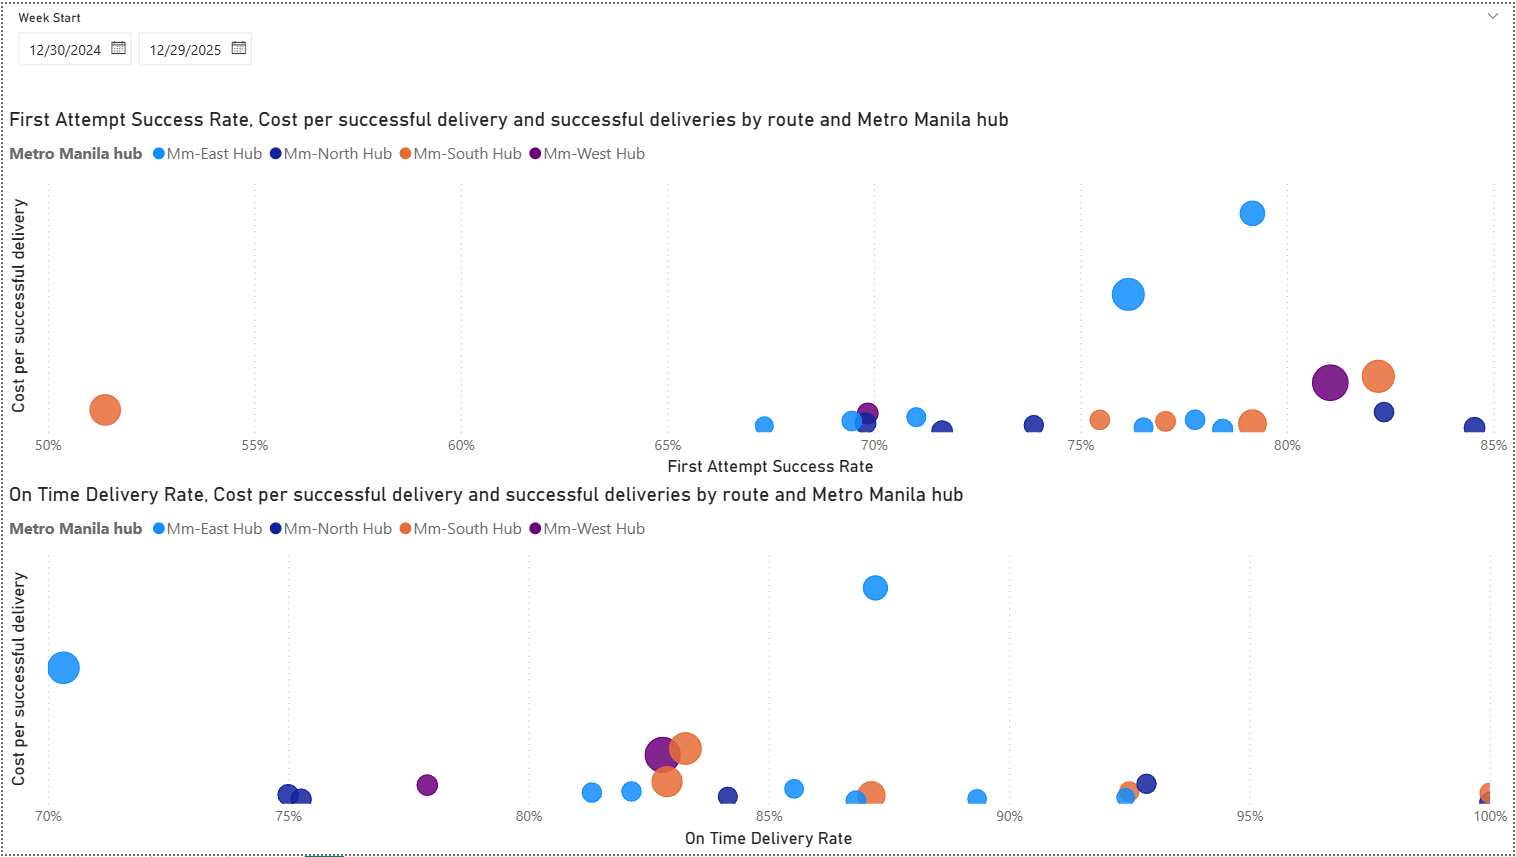

Layout of this report page (visuals, bound fields, positions):
{"tool":"powerbi","page":{"name":"Page 2","canvas":[1280,720],"ordinal":1},"visuals":[{"type":"scatterChart","fields":{"X":["kpi_table_powerbi_filled_plausible_final.KPI_2 First Attempt Success Rate"],"Y":["kpi_table_powerbi_filled_plausible_final.KPI 1 Cost per Successful Delivery (PHP)"],"Size":["Sum(kpi_table_powerbi_filled_plausible_final.successful_deliveries)"],"Series":["kpi_table_powerbi_filled_plausible_final.hub_name"],"Category":["kpi_table_powerbi_filled_plausible_final.route_id"]},"box":[0,87,1280,318],"z":0},{"type":"scatterChart","fields":{"Y":["kpi_table_powerbi_filled_plausible_final.KPI 1 Cost per Successful Delivery (PHP)"],"Size":["Sum(kpi_table_powerbi_filled_plausible_final.successful_deliveries)"],"Series":["kpi_table_powerbi_filled_plausible_final.hub_name"],"X":["kpi_table_powerbi_filled_plausible_final.KPI_3 On-Time Delivery Rate"],"Category":["kpi_table_powerbi_filled_plausible_final.route_id"]},"box":[0,405,1280,315],"z":1000},{"type":"slicer","fields":{"Values":["kpi_table_powerbi_filled_plausible_final.Week Start"]},"box":[0,0,1280,87],"z":2000}]}

Visuals, with their boxes in screenshot pixels (x1, y1, x2, y2), scaled from the page's 1280x720 canvas onto the 1516x857 screenshot:
scatterChart - kpi_table_powerbi_filled_plausible_final.KPI_2 First Attempt Success Rate x kpi_table_powerbi_filled_plausible_final.KPI 1 Cost per Successful Delivery (PHP): 0/104/1515/482
scatterChart - kpi_table_powerbi_filled_plausible_final.KPI 1 Cost per Successful Delivery (PHP) x Sum(kpi_table_powerbi_filled_plausible_final.successful_deliveries): 0/482/1515/856
slicer - kpi_table_powerbi_filled_plausible_final.Week Start: 0/0/1515/104
